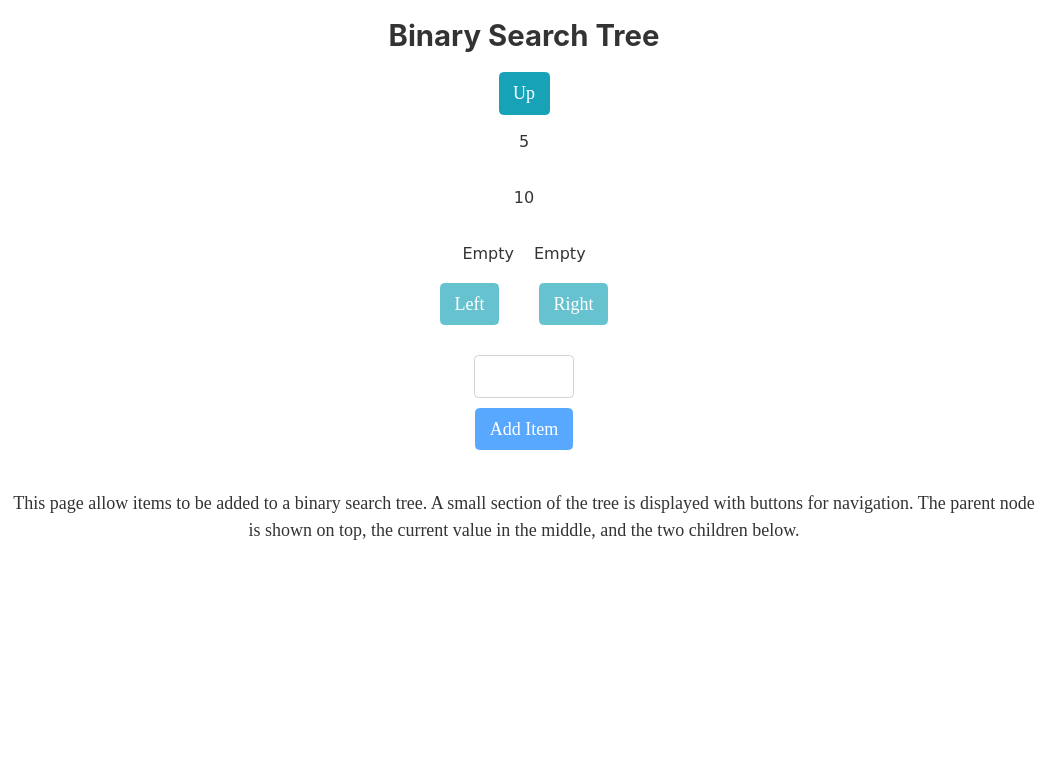
Test case: BinarySearchTree › Click upButton and display correctly
The image size is (1048, 768).
Click the button with id "upButton" at (524, 93), box [498,72,550,115]
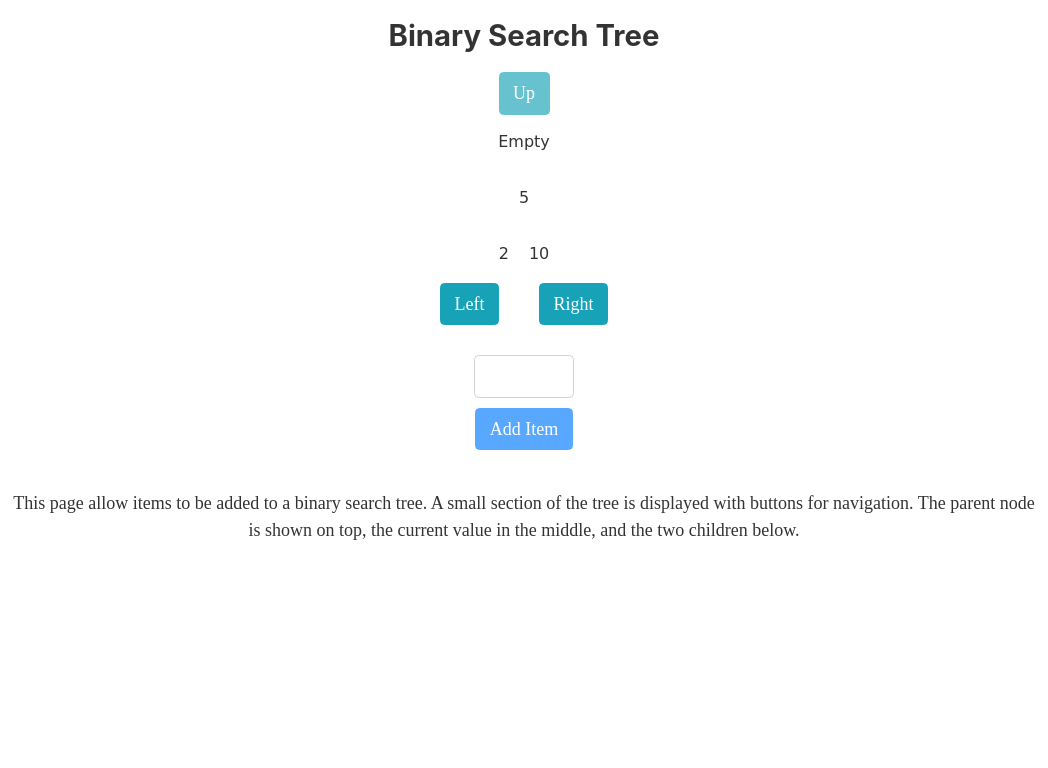
Check: the text with id "mainDisplay" reads "5", box [519,188,529,207]
